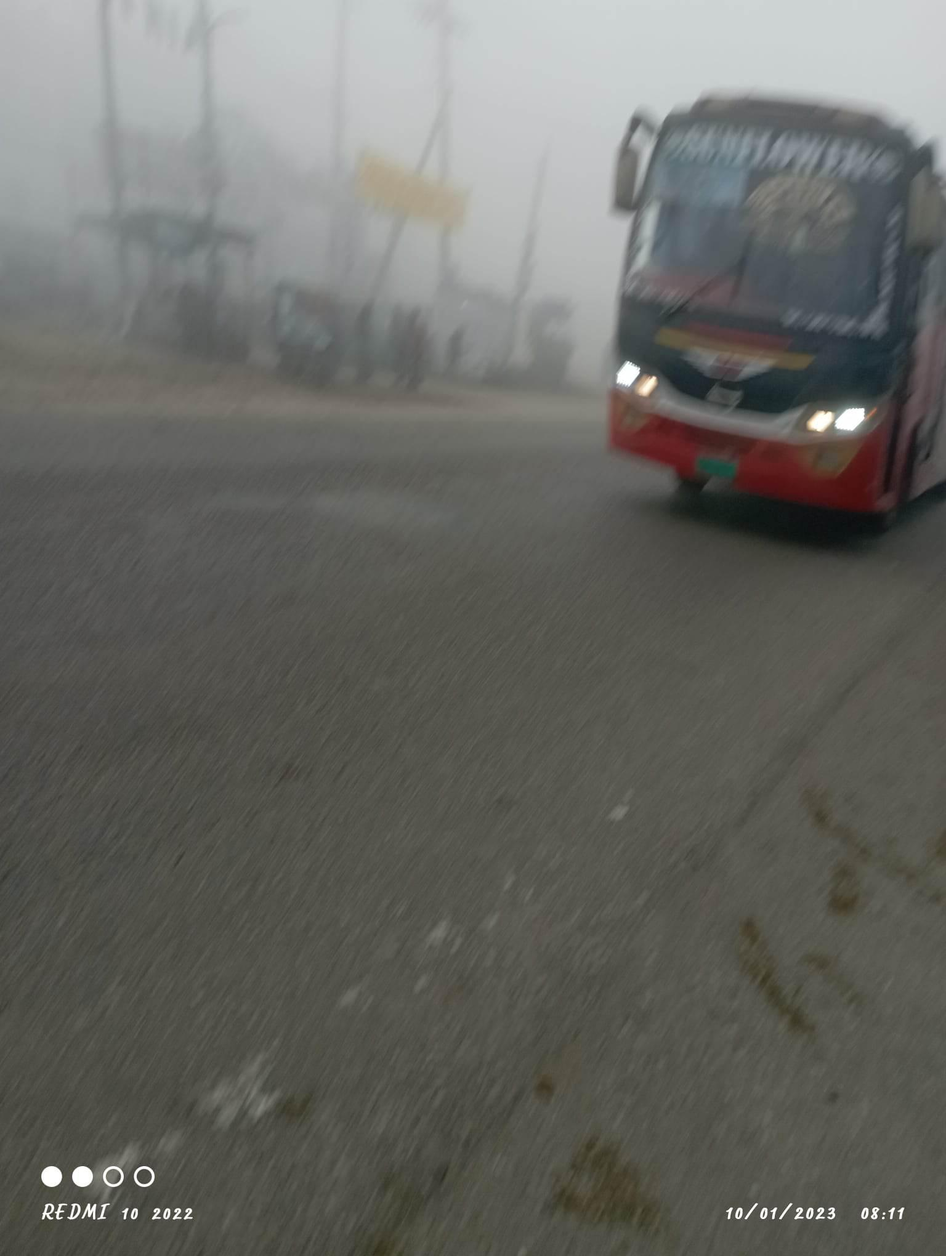Bus: (580, 71, 946, 556)
